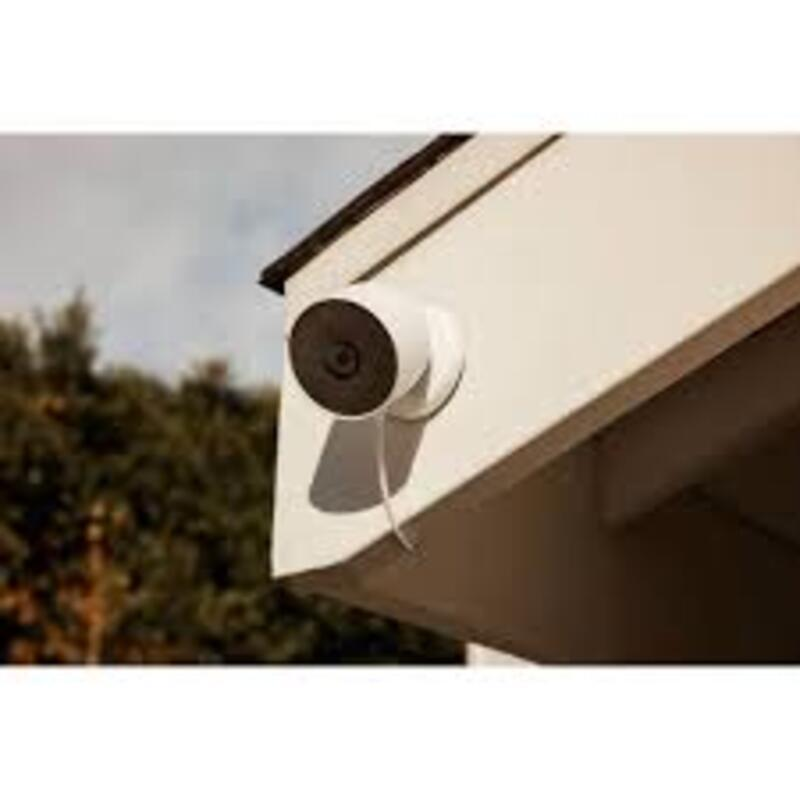nest: (266, 290, 473, 417)
